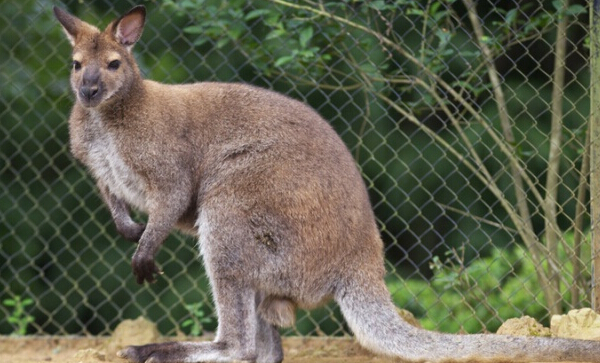kangaroo: (45, 6, 600, 361)
